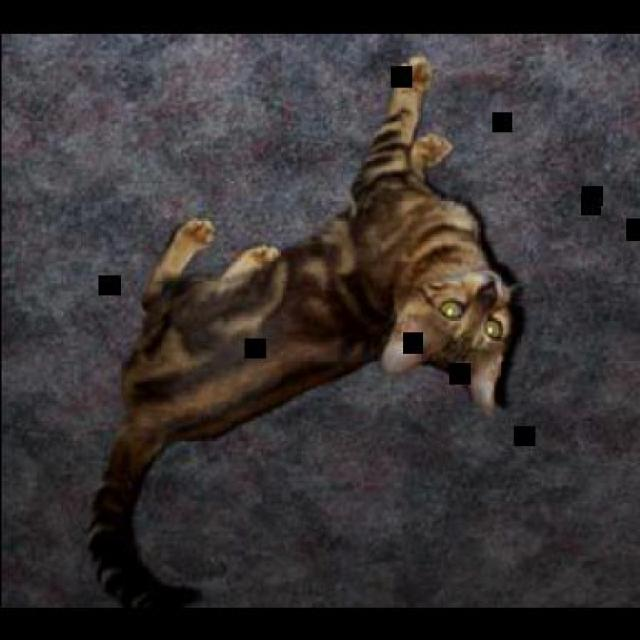unauthorized: (85, 52, 523, 610)
